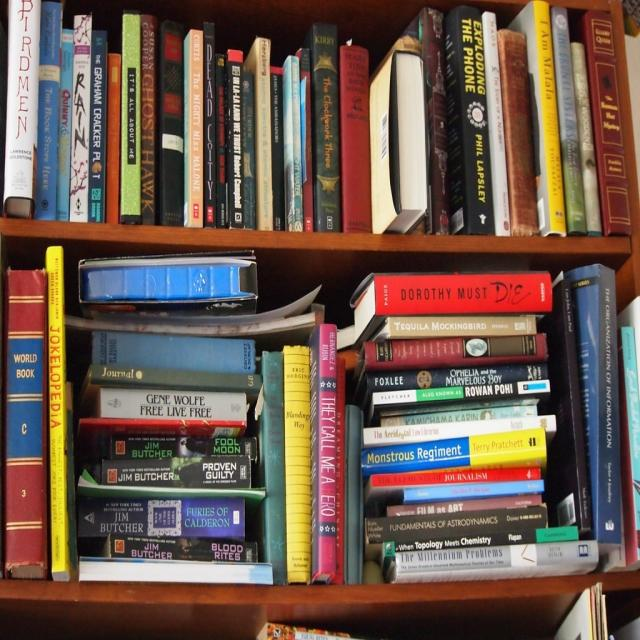book: (1, 268, 47, 576), (588, 14, 631, 234), (560, 279, 592, 529), (460, 6, 494, 234), (373, 271, 552, 314), (597, 264, 623, 542), (76, 498, 245, 539), (93, 331, 254, 371), (50, 247, 69, 574), (365, 506, 547, 540), (426, 8, 453, 234), (364, 333, 547, 366), (363, 415, 557, 445), (486, 13, 511, 237), (341, 46, 371, 232), (264, 353, 288, 585), (68, 16, 94, 222), (318, 323, 338, 575), (101, 384, 246, 418), (102, 455, 251, 487), (375, 378, 551, 405), (367, 365, 548, 388), (164, 20, 184, 224), (123, 13, 142, 223), (88, 32, 108, 222), (90, 365, 261, 387), (110, 537, 258, 560), (57, 29, 74, 220), (371, 468, 541, 487), (111, 436, 257, 457), (404, 479, 545, 500), (258, 38, 273, 231), (229, 51, 244, 227), (191, 30, 204, 225), (271, 66, 286, 231), (301, 48, 314, 231), (335, 355, 345, 581), (108, 54, 121, 219), (291, 55, 303, 231), (205, 26, 215, 227), (80, 419, 246, 425)
